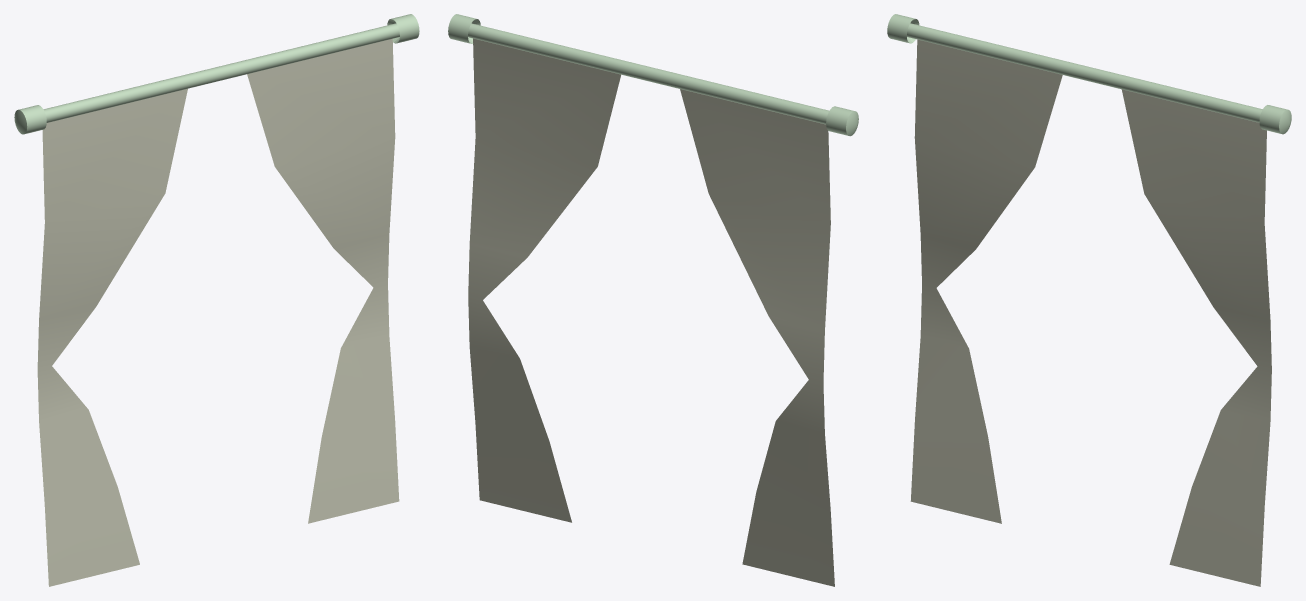
The model's file is SM_Curtain.fbx.
The picture shows the model from 3 angles, left to right: view 1: azimuth 30°, elevation 25°; view 2: azimuth 150°, elevation 25°; view 3: azimuth 330°, elevation 25°; orthographic projection.
Parts seen in each view (by area): view 1: SM_Curtain; view 2: SM_Curtain; view 3: SM_Curtain.
Boxes of the visible parts, x1=… form: SM_Curtain: x1=14, y1=14, x2=419, y2=586; SM_Curtain: x1=448, y1=14, x2=858, y2=586; SM_Curtain: x1=887, y1=14, x2=1291, y2=586.
Bounding box in the file's own units: 1.03 × 1.18 × 0.0571.
